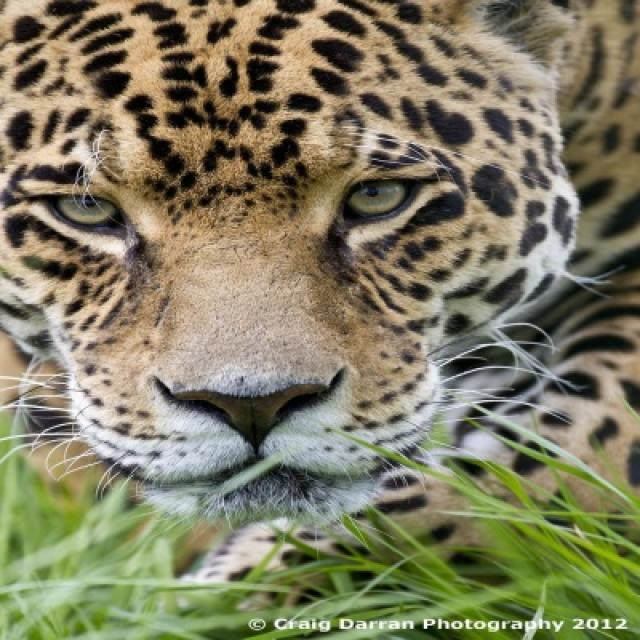Jaguar: (0, 0, 638, 542)
